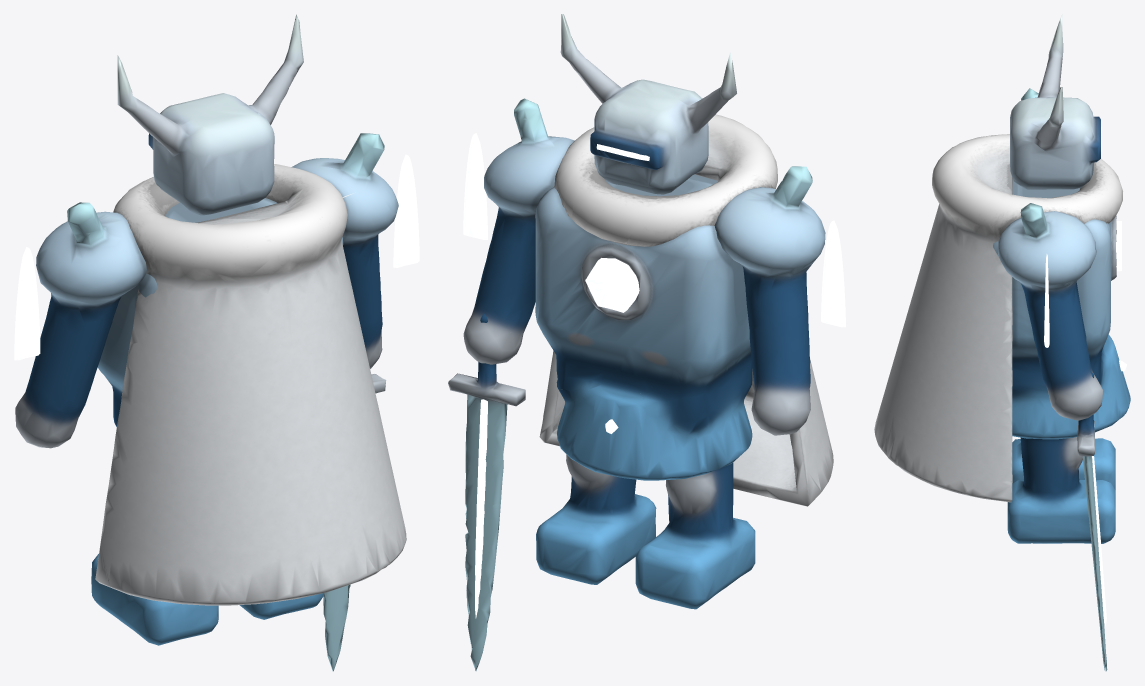
The model's file is Hivernor.glb.
3 views of the same model, side by side, from view 1: azimuth 30°, elevation 25°; view 2: azimuth 150°, elevation 25°; view 3: azimuth 270°, elevation 25° (orthographic). The views are drawn at different scales.
Visible parts, largest first — view 1: Cape, ArmL, Head, ArmR, Orbit_Glow, LegL, Body, WeaponR, LegR; view 2: Body, Cape, ArmL, ArmR, Head, LegL, LegR, WeaponR, Orbit_Glow, Body_Glow, WeaponR_Glow; view 3: Cape, ArmR, Body, Head, LegR, WeaponR, LegL, WeaponR_Glow, Orbit_Glow.
Part boxes in pixels (x1,y1,x2,y2): Cape: (95, 164, 406, 605); ArmL: (15, 202, 146, 448); Head: (117, 14, 303, 215); ArmR: (291, 133, 398, 368); Orbit_Glow: (14, 154, 419, 360); LegL: (91, 554, 218, 645); Body: (97, 198, 343, 426); WeaponR: (323, 374, 386, 671); LegR: (239, 593, 323, 619); Body: (535, 174, 752, 480); Cape: (539, 114, 833, 506); ArmL: (714, 166, 825, 435); ArmR: (463, 98, 574, 364); Head: (560, 14, 736, 194); LegL: (635, 462, 755, 609); LegR: (536, 454, 656, 584); WeaponR: (448, 313, 525, 671); Orbit_Glow: (463, 133, 845, 327); Body_Glow: (585, 258, 639, 312); WeaponR_Glow: (475, 399, 487, 618); Cape: (874, 134, 1122, 502); ArmR: (998, 203, 1102, 420); Body: (993, 179, 1130, 439); Head: (1010, 14, 1100, 189); LegR: (1007, 437, 1115, 543); WeaponR: (1077, 371, 1107, 671); LegL: (1012, 438, 1115, 489); WeaponR_Glow: (1092, 456, 1106, 626); Orbit_Glow: (1044, 254, 1049, 347).
Size of the model in its own units: 2.48 by 4.07 by 1.68.
Materials: 6 (1 with a texture image).
